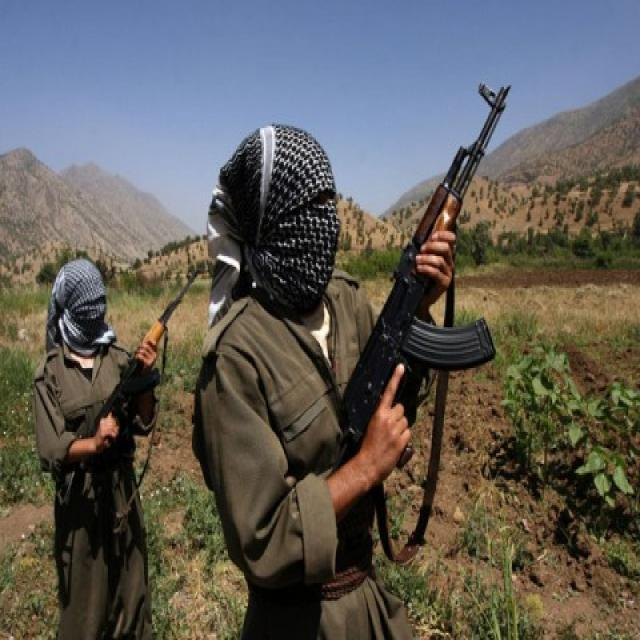Forest: (1, 0, 640, 640)
Militant: (201, 106, 443, 640), (28, 245, 184, 640)
